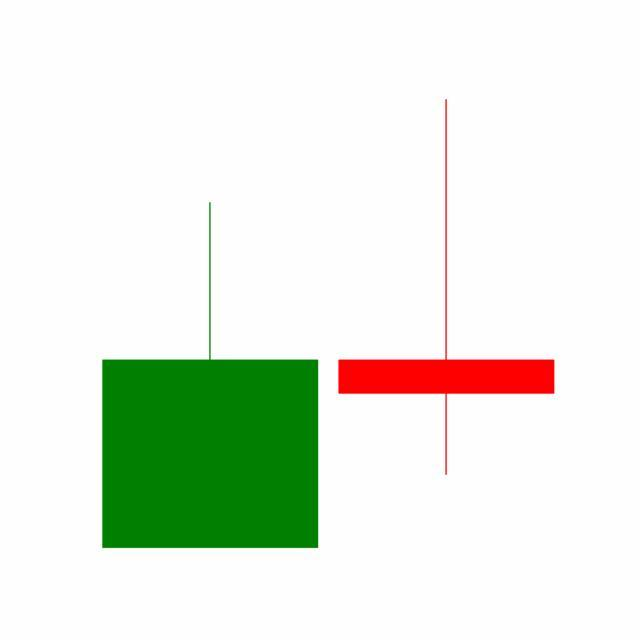Spinning Top: (328, 95, 566, 480)
